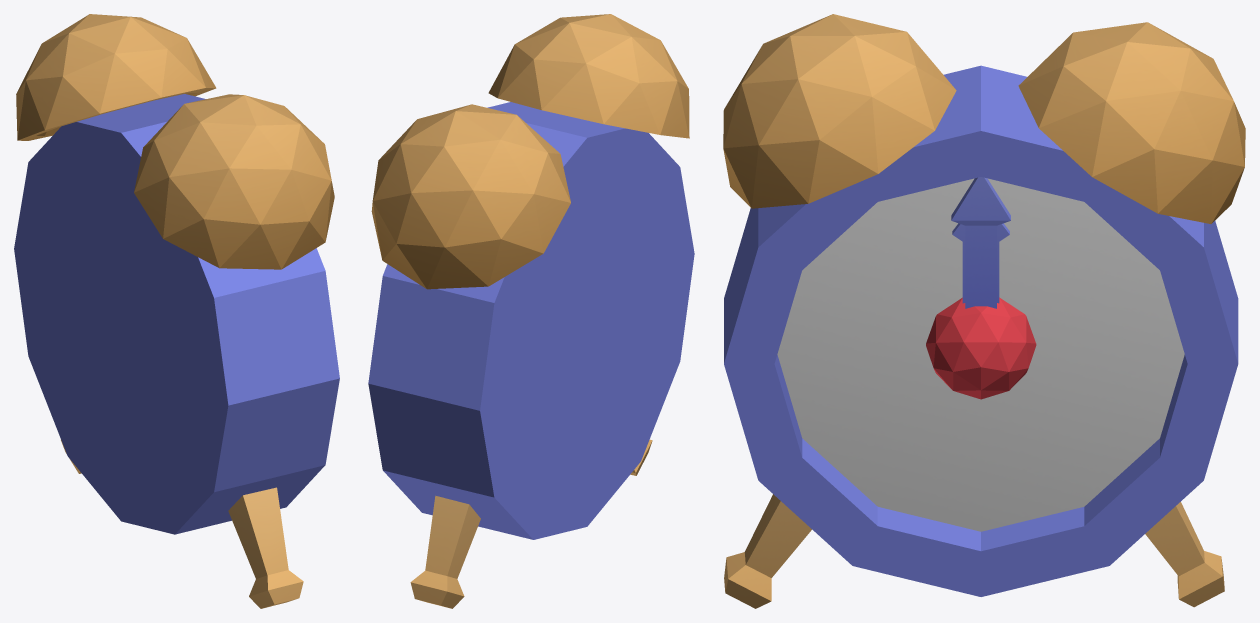
File: alarmclock.fbx
3 views of the same model, side by side, from view 1: azimuth 30°, elevation 25°; view 2: azimuth 150°, elevation 25°; view 3: azimuth 270°, elevation 25° (orthographic). The views are drawn at different scales.
Visible parts, largest first — view 1: Alarmclock; view 2: Alarmclock; view 3: Alarmclock, wskazowka1, wskazowka3.
Boxes of the visible parts, bbox=[...] form: Alarmclock: bbox=[14, 14, 339, 608]; Alarmclock: bbox=[368, 14, 694, 608]; Alarmclock: bbox=[723, 14, 1245, 608]; wskazowka1: bbox=[951, 177, 1010, 308]; wskazowka3: bbox=[952, 223, 1009, 303].
Size of the model in its own units: 15.56 by 41.32 by 34.15.
